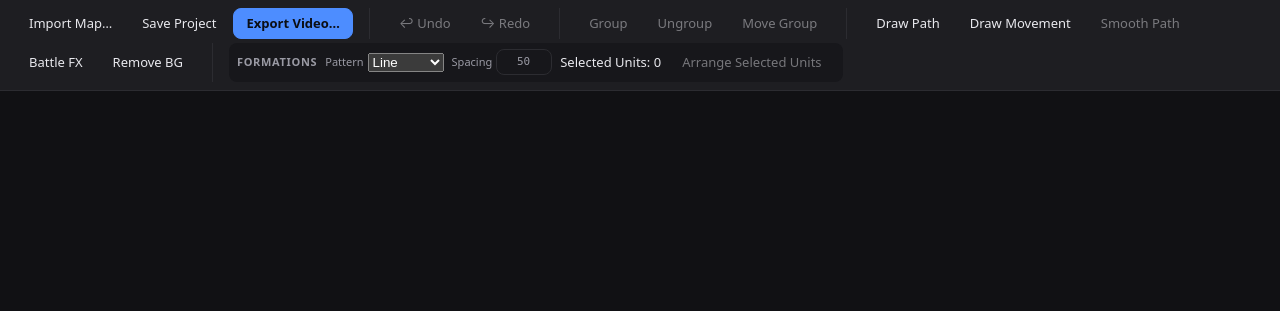
Test case: CanvasActionBar (relocated Toolbar actions) › background remover (toolbar control) › applies keying, creates a "(BG removed)" copy in ONE undo step and retargets
Click the button with test id "remove-bg-btn".
click(148, 62)  # box x1=100 y1=47 x2=196 y2=78
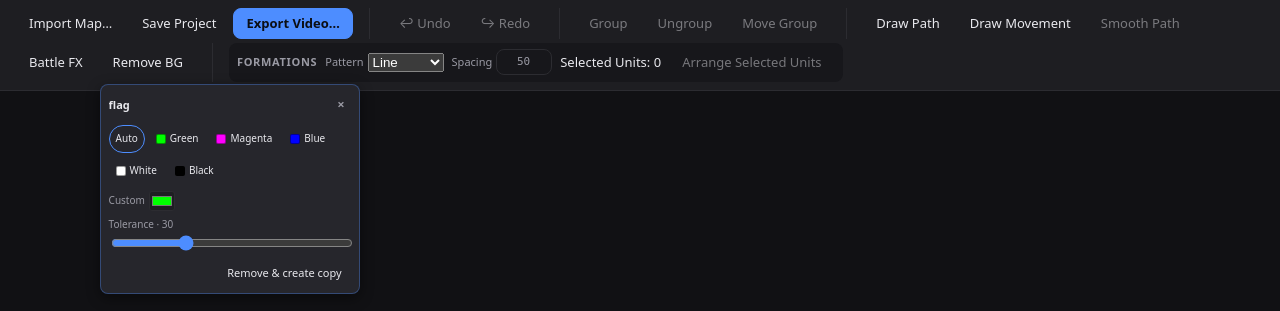
Click the button with test id "bg-key-ff00ff".
click(244, 139)  # box x1=210 y1=125 x2=279 y2=153
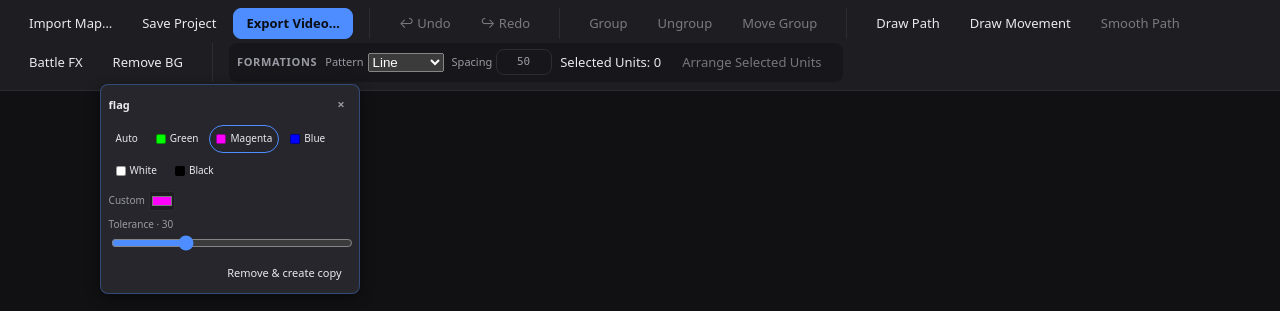
Click the button with test id "bg-apply".
click(284, 273)  # box x1=218 y1=259 x2=350 y2=287
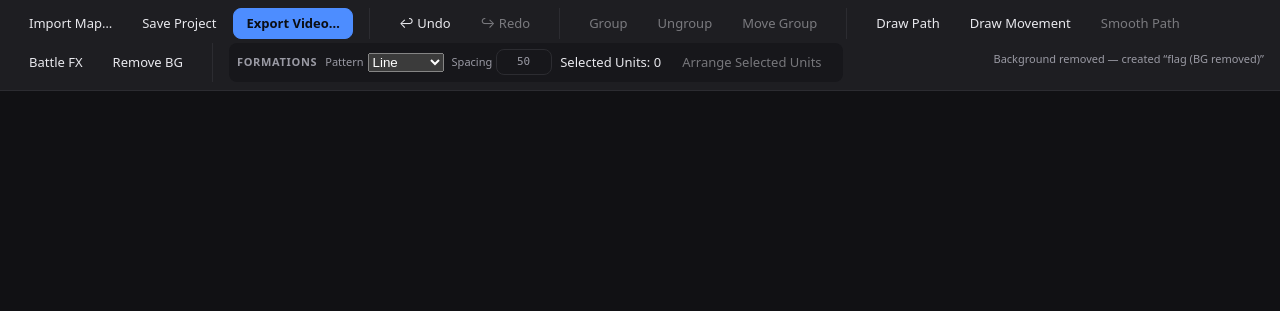
Now the element with test id "bg-remover" is gone
Now the text with test id "toolbar-status" reads "Background removed — created “flag (BG removed)”", box x1=994 y1=51 x2=1264 y2=66
